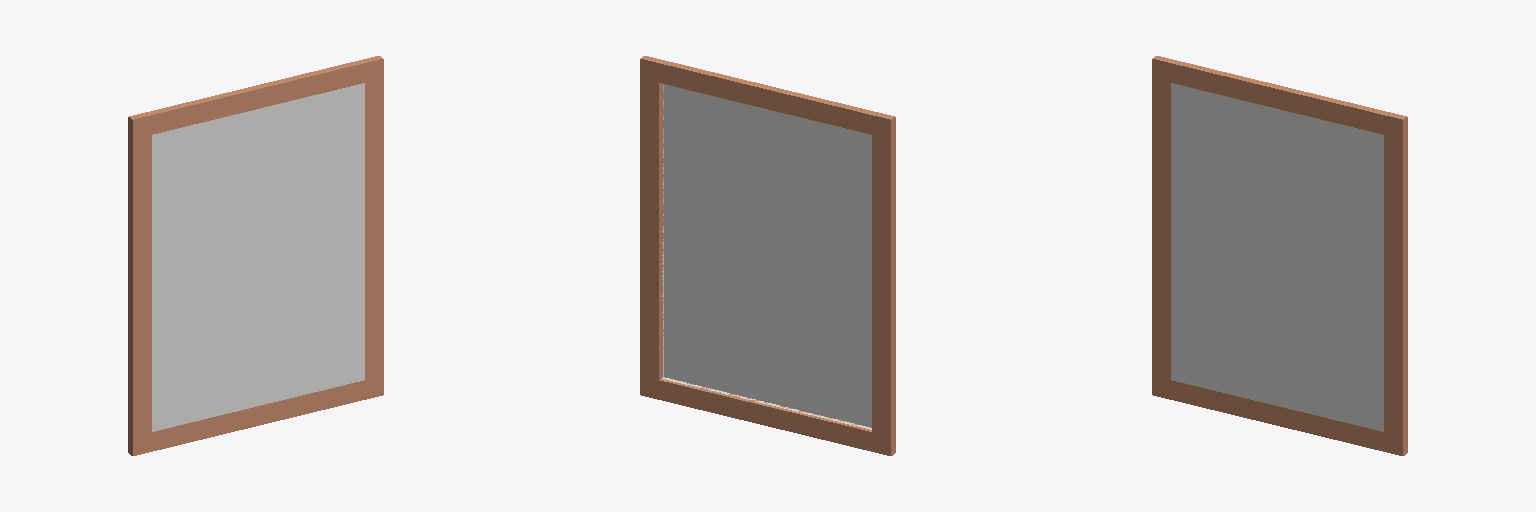
Rendered from Painting_02.obj.
3 views of the same model, side by side, from view 1: azimuth 30°, elevation 25°; view 2: azimuth 150°, elevation 25°; view 3: azimuth 330°, elevation 25° (orthographic).
Visible parts, largest first — view 1: object_1, object_2; view 2: object_1, object_2; view 3: object_1, object_2.
Part boxes in pixels (x1,y1,x2,y2): object_1: (152, 83, 364, 431); object_2: (128, 56, 383, 455); object_1: (662, 84, 871, 429); object_2: (640, 56, 895, 455); object_1: (1171, 83, 1383, 431); object_2: (1152, 56, 1407, 455).
Bounding box in the file's own units: 66.58 × 85.44 × 2.